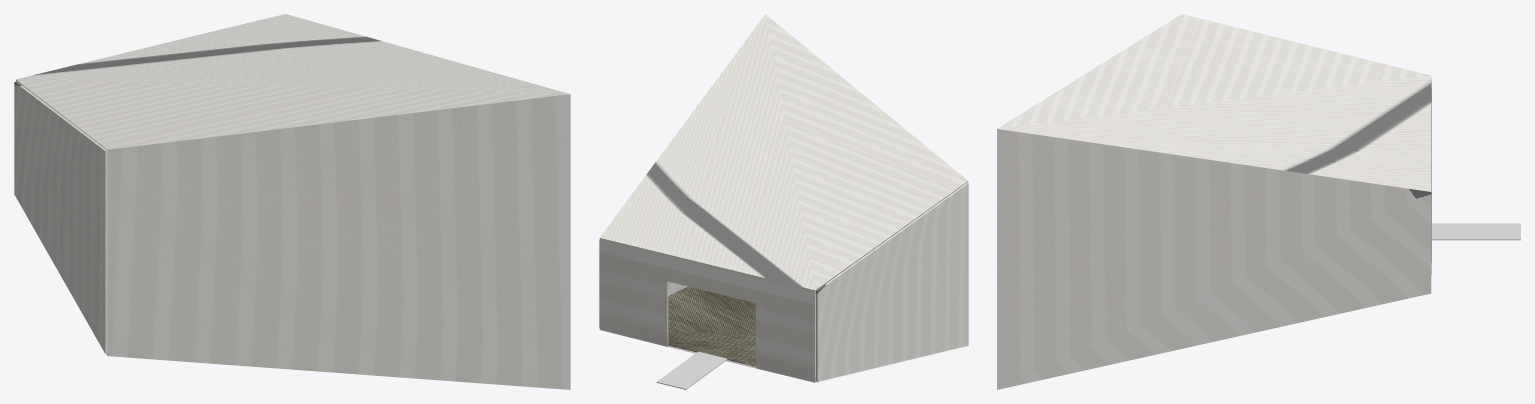
3 views of the same model, side by side, from view 1: azimuth 30°, elevation 25°; view 2: azimuth 150°, elevation 25°; view 3: azimuth 270°, elevation 25° (orthographic). The views are drawn at different scales.
Visible parts, largest first — view 1: Room; view 2: Room, Floor, Walkway; view 3: Room, Walkway.
Part boxes in pixels (x1,y1,x2,y2): Room: (14, 14, 570, 389); Room: (599, 14, 968, 382); Floor: (668, 286, 756, 366); Walkway: (656, 351, 727, 389); Room: (997, 14, 1431, 389); Walkway: (1432, 223, 1520, 240).
Size of the model in its own units: 3.05 by 2.4 by 4.36.
Materials: 5 (2 with a texture image).
